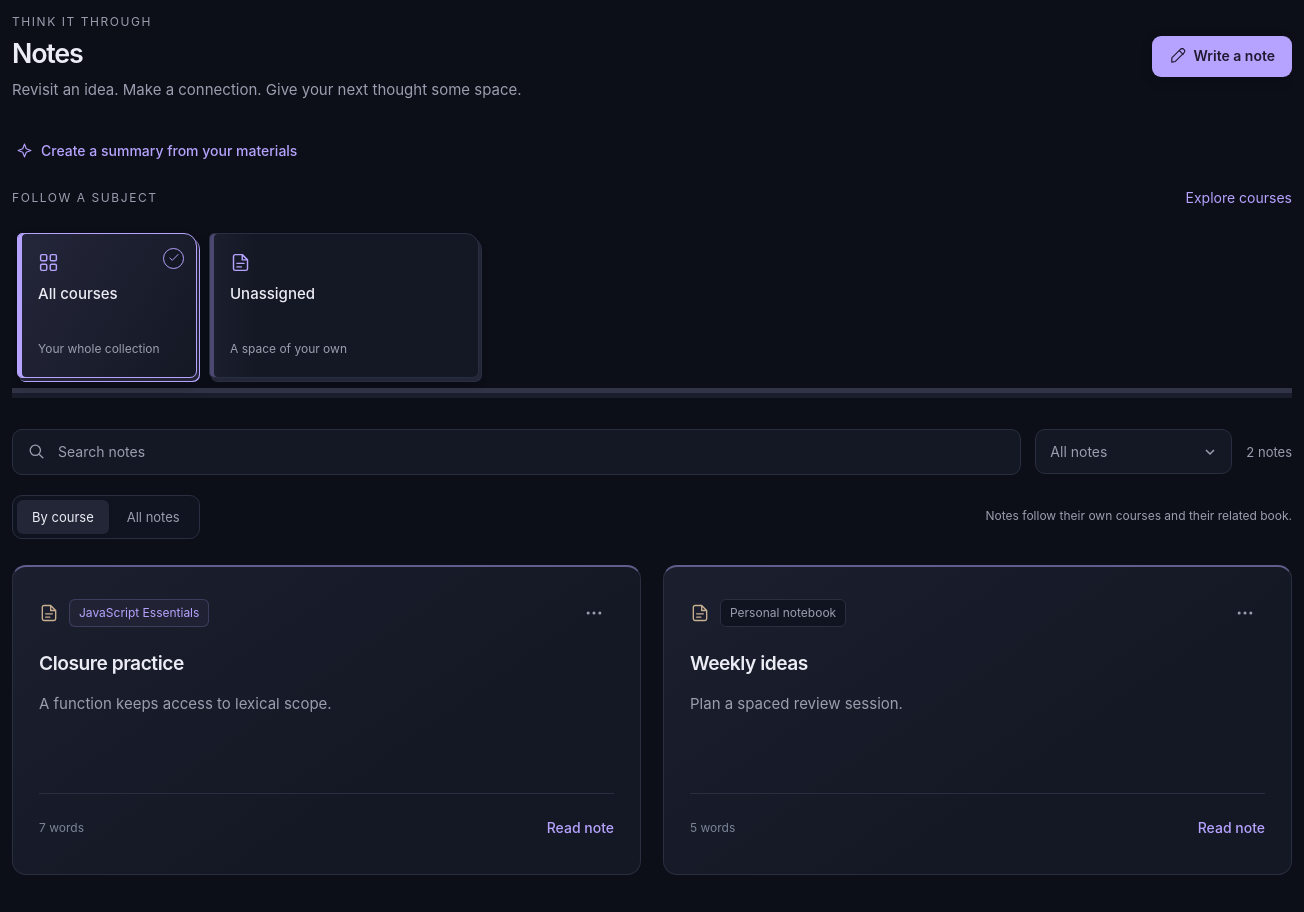
organized collections › finds notes by content and exposes standalone notes and the editor
Expected: the heading "Closure practice" is shown, [39,651,184,675]
Type "lexical" into the search field labelled "Search notes".
click(531, 452); type("lexical")  # box [56,430,1006,474]
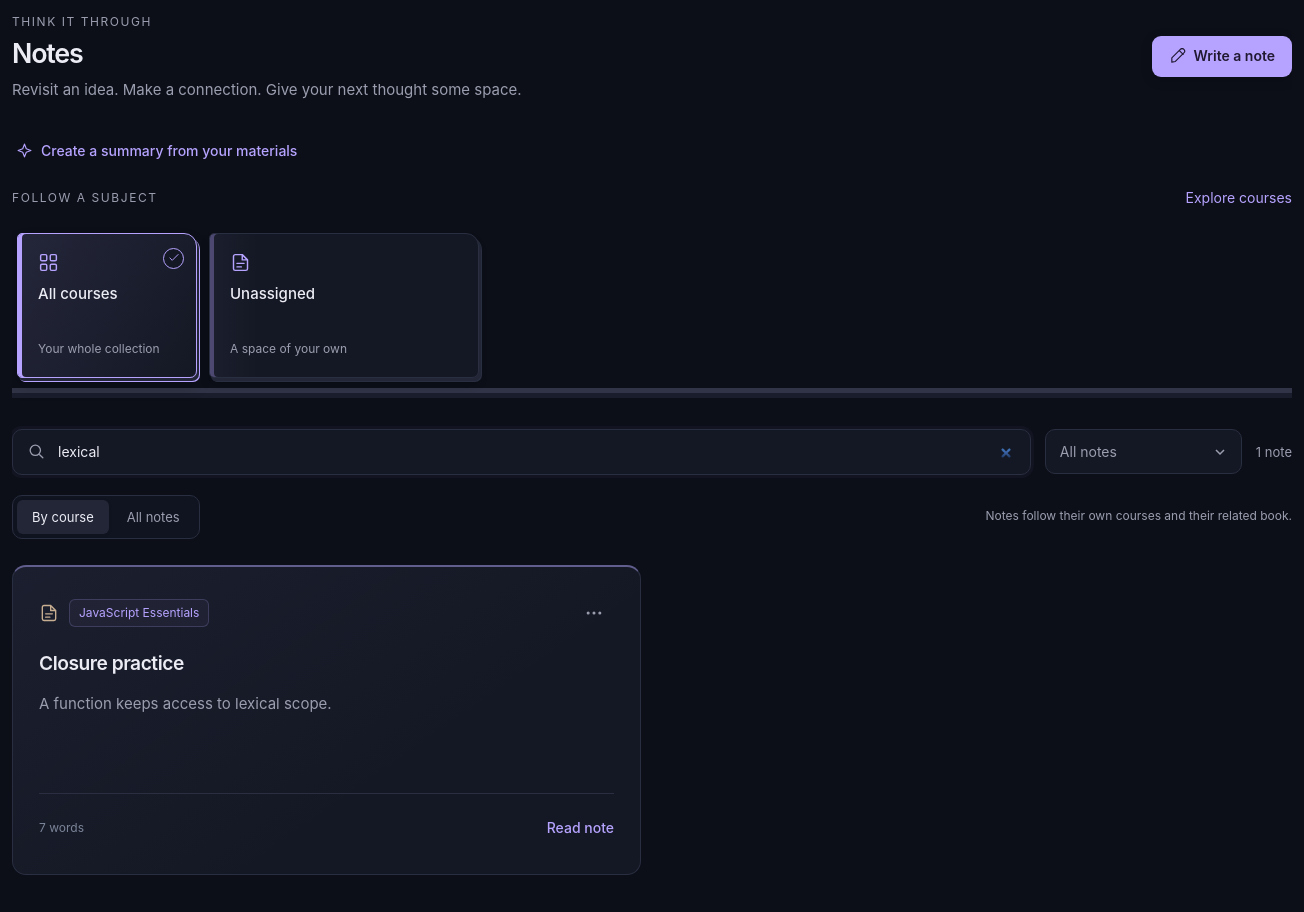
Expected: the heading "Closure practice" is shown, [39,651,184,675]
Expected: the link "Weekly ideas" is gone
Clear the search field named "Search notes" at {"x": 536, "y": 452}, box [56,430,1016,474]
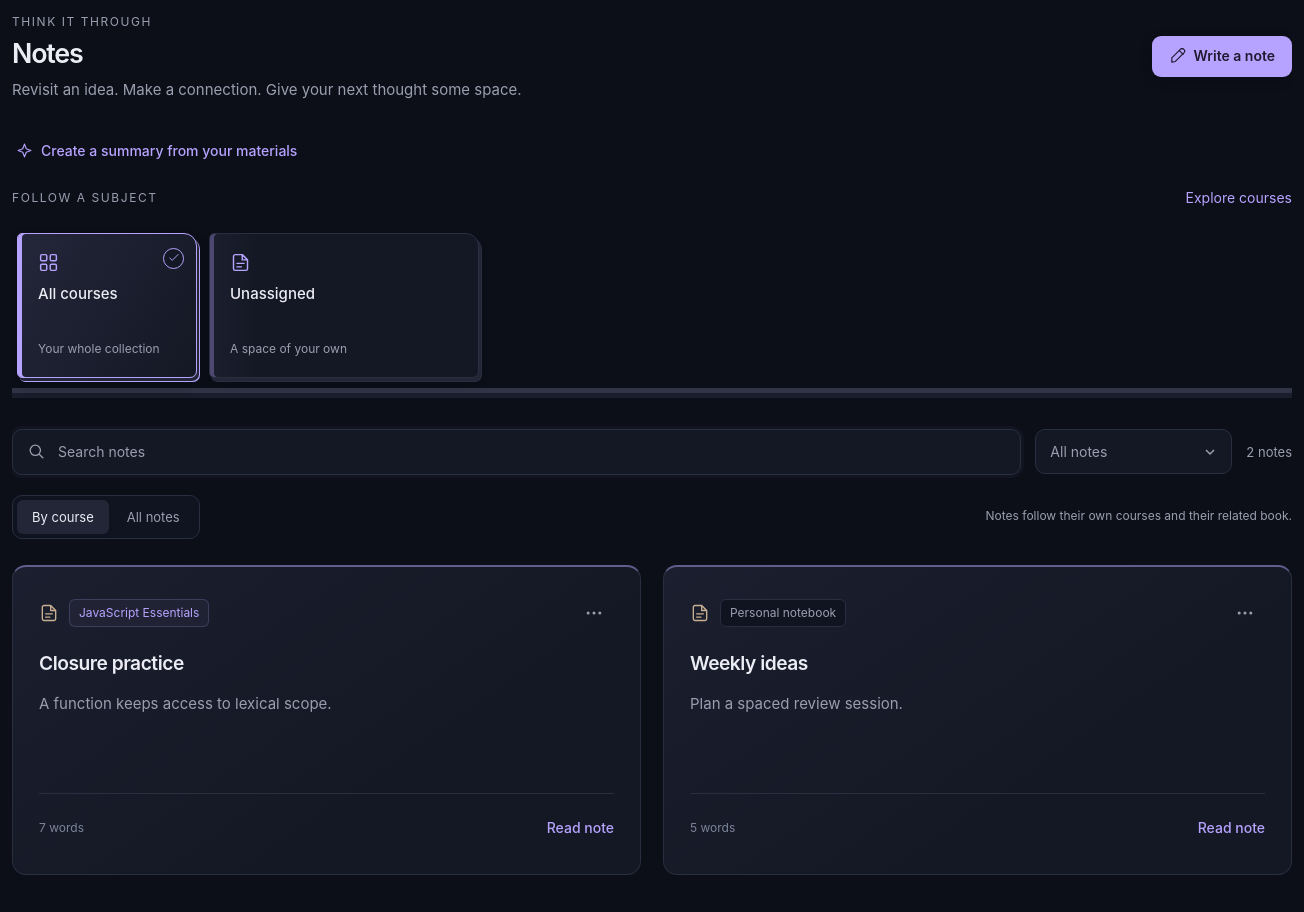
Select "Standalone notes" in the dropdown named "Filter notes by book" at {"x": 1134, "y": 452}, box [1035,429,1232,474]
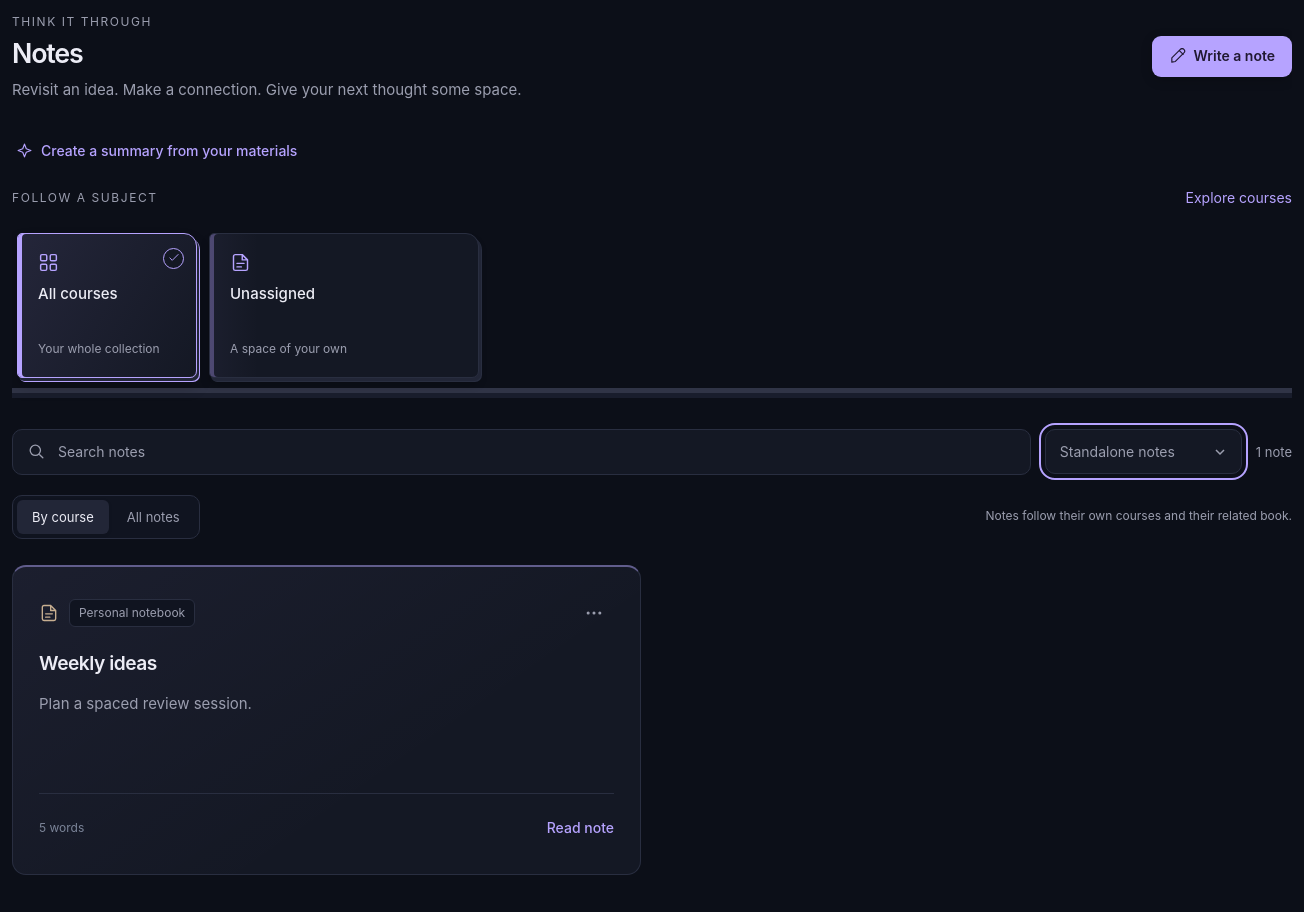
Expected: the heading "Weekly ideas" is shown, [39,651,157,675]
Expected: the link "Closure practice" is gone
